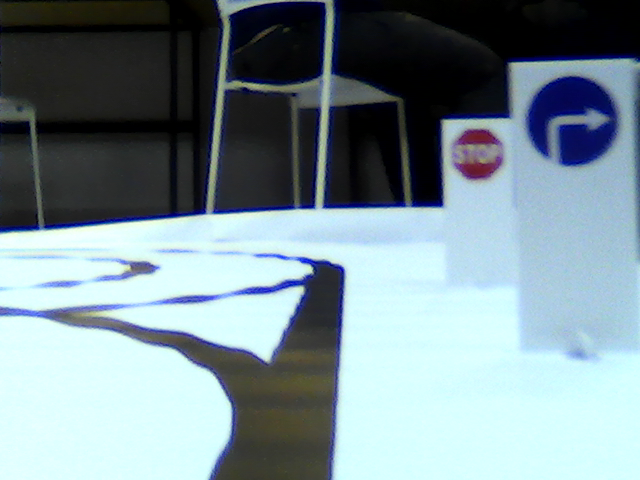Right: (528, 70, 619, 162)
Stop: (453, 124, 512, 186)
